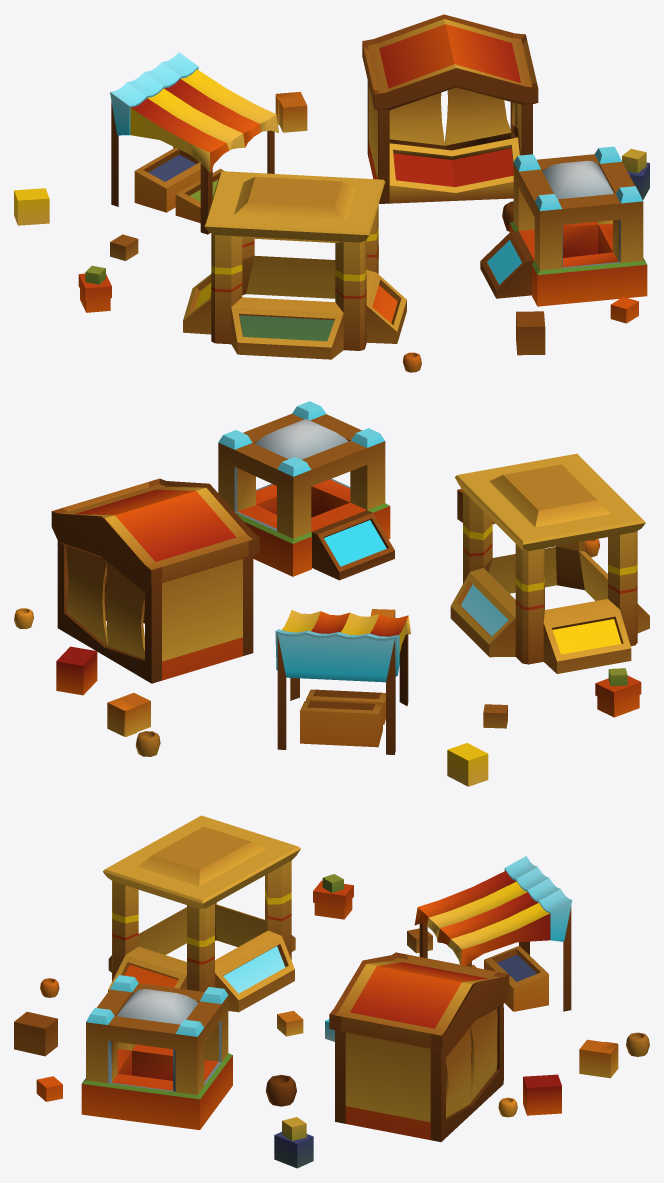
The model's file is Market.fbx.
The picture shows the model from 3 angles, top to bottom: view 1: azimuth 30°, elevation 25°; view 2: azimuth 150°, elevation 25°; view 3: azimuth 270°, elevation 25°; orthographic projection. The views are drawn at different scales.
Parts seen in each view (by area): view 1: Market01; view 2: Market01; view 3: Market01.
Part boxes in pixels (bbox=[...]): Market01: bbox=[14, 14, 649, 372]; Market01: bbox=[14, 401, 649, 786]; Market01: bbox=[14, 815, 649, 1168].
Bounding box in the file's own units: 548 × 131 × 559.
